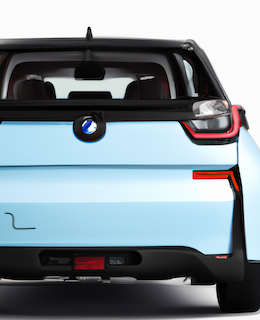scratch: (0, 208, 45, 242)
